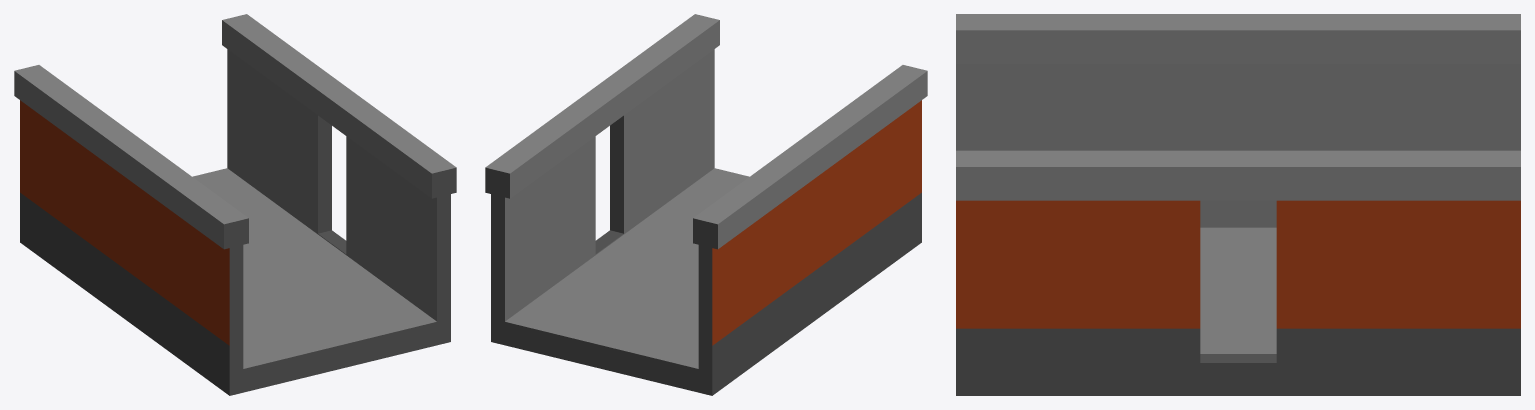
The model's file is Building_04.fbx.
3 renders of one model, left to right at view 1: azimuth 30°, elevation 25°; view 2: azimuth 150°, elevation 25°; view 3: azimuth 270°, elevation 25°, orthographic. The views are drawn at different scales.
Parts seen in each view (by area): view 1: Building_04; view 2: Building_04; view 3: Building_04.
Boxes of the visible parts, x1,y1,x2,y2 form: Building_04: (14, 14, 456, 395); Building_04: (485, 14, 927, 395); Building_04: (956, 14, 1520, 395).
Bounding box in the file's own units: 430 × 305 × 672.
1 material, 1 textured.
